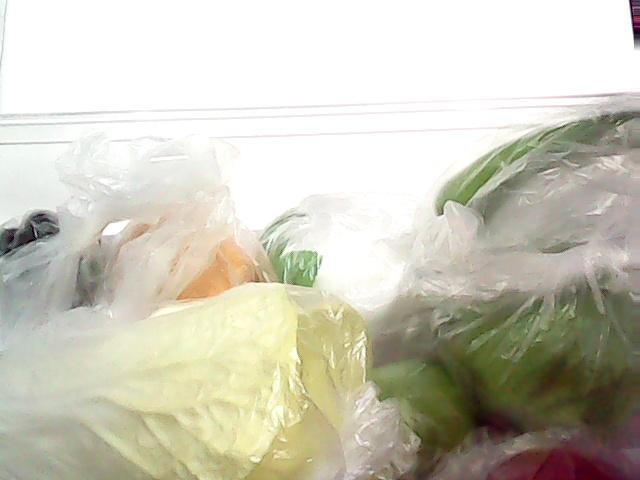apple: (359, 359, 473, 453), (480, 444, 640, 480)
cabbage: (422, 250, 640, 434)
grape: (0, 194, 88, 283)
lemon: (117, 210, 270, 310)
napa cabbage: (0, 279, 364, 480)
pepper: (412, 106, 640, 222)
radish: (259, 210, 425, 330)
